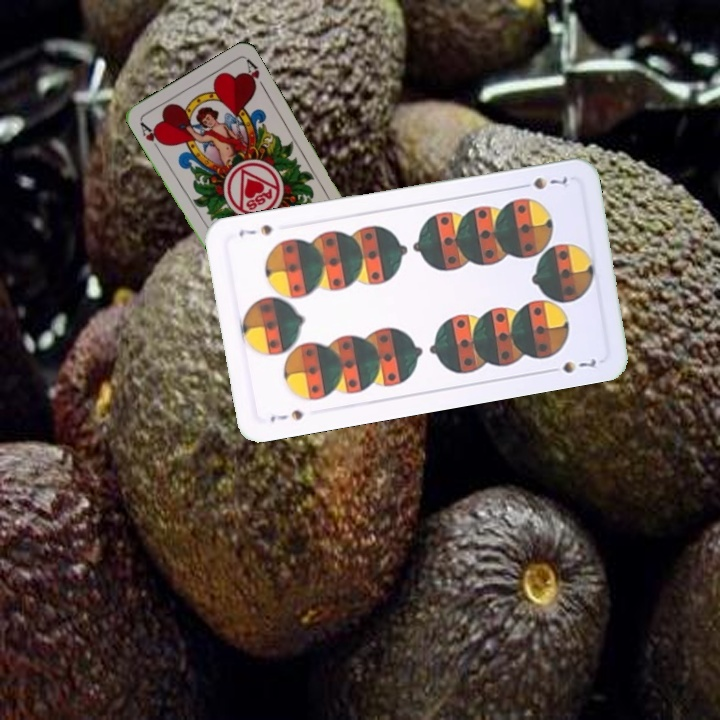HA: (136, 118, 166, 154)
S7: (514, 172, 573, 192), (266, 405, 306, 425)
